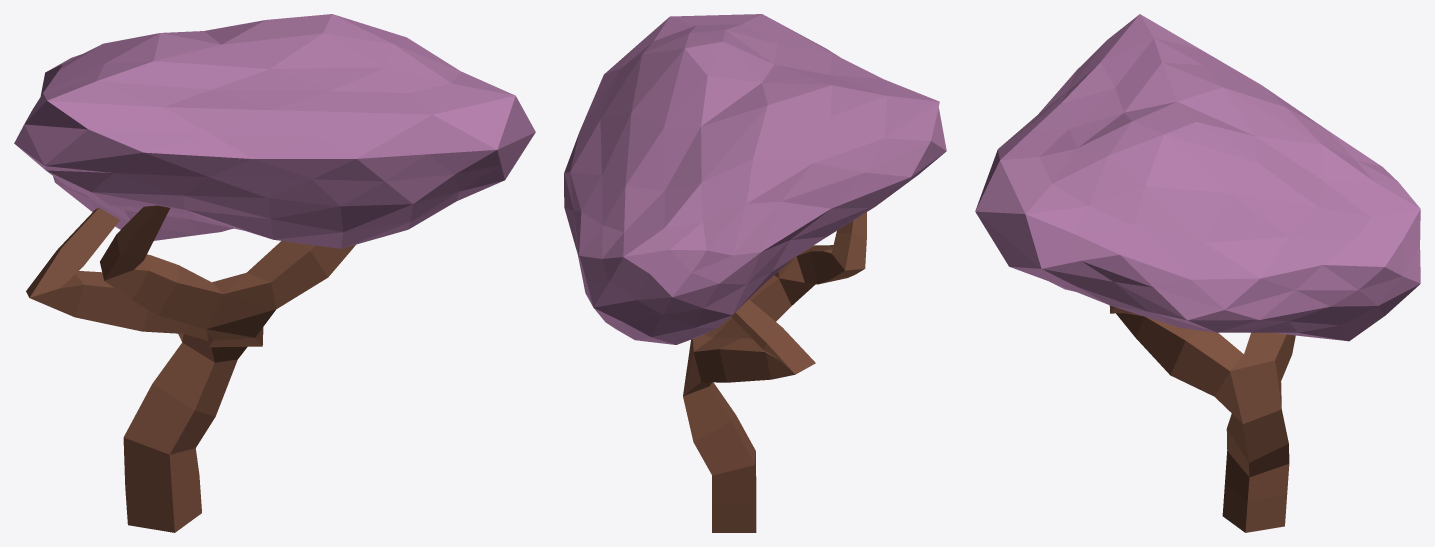
Rendered from Little_Tree.fbx.
3 views of the same model, side by side, from view 1: azimuth 30°, elevation 25°; view 2: azimuth 150°, elevation 25°; view 3: azimuth 270°, elevation 25° (orthographic). The views are drawn at different scales.
Visible parts, largest first — view 1: Cube; view 2: Cube; view 3: Cube.
Part boxes in pixels (x1,y1,x2,y2): Cube: (14,14,535,532); Cube: (564,14,946,532); Cube: (975,14,1420,532).
Bounding box in the file's own units: 1853 × 2109 × 1952.
